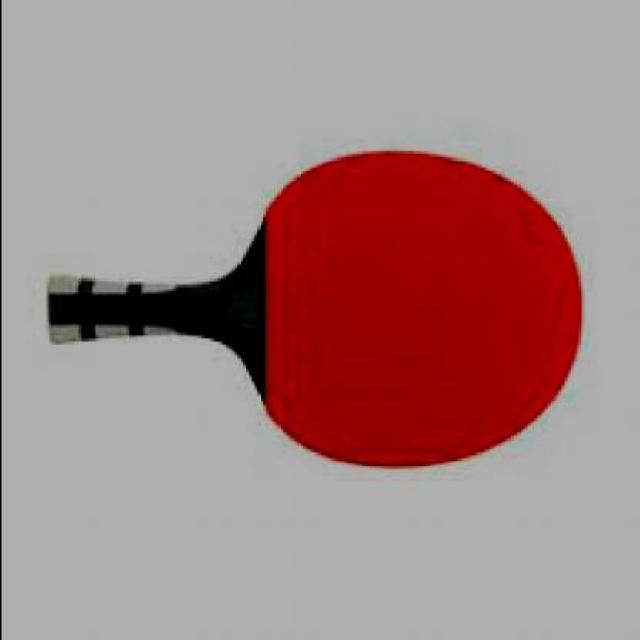table_tennis_racket: (198, 144, 586, 473)
